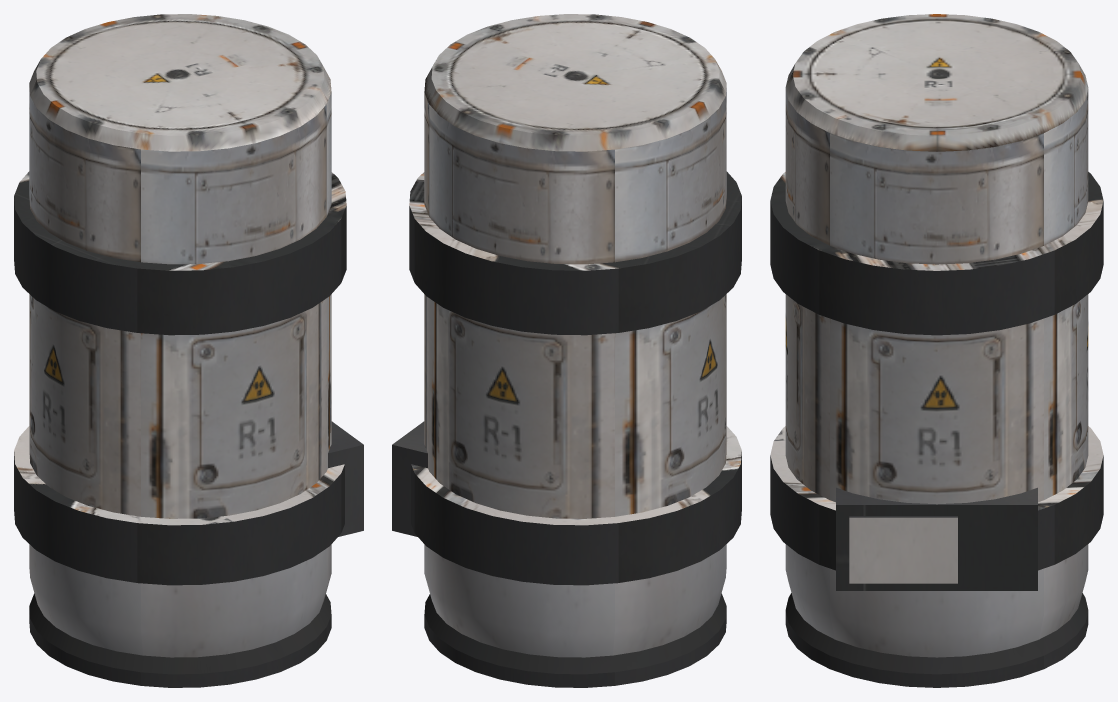
3 renders of one model, left to right at view 1: azimuth 30°, elevation 25°; view 2: azimuth 150°, elevation 25°; view 3: azimuth 270°, elevation 25°, orthographic.
Parts seen in each view (by area): view 1: Цилиндр; view 2: Цилиндр; view 3: Цилиндр.
Boxes of the visible parts, <box> form: Цилиндр: <box>14,14,363,687</box>; Цилиндр: <box>392,14,741,687</box>; Цилиндр: <box>770,14,1103,687</box>.
Size of the model in its own units: 330 by 600 by 330.
Materials: 1 (1 with a texture image).
